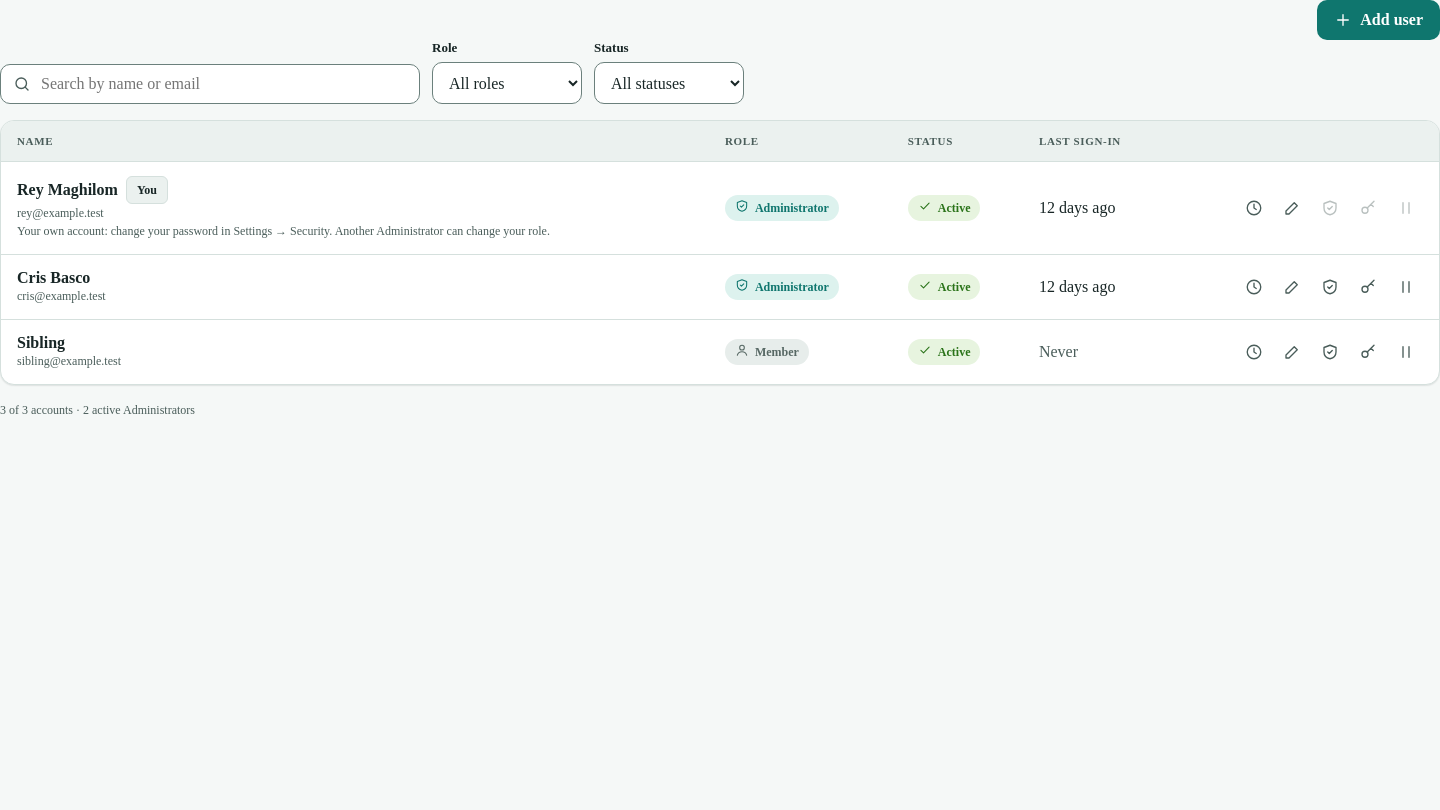
Manage Users RBAC-2 UI › creates a Member and shows the one-time setup link only while its dialog is open
Expected: the table named "Accounts" is shown, [1,121,1439,384]
Click the button "Add user" at (1379, 20), box [1317,0,1439,40]
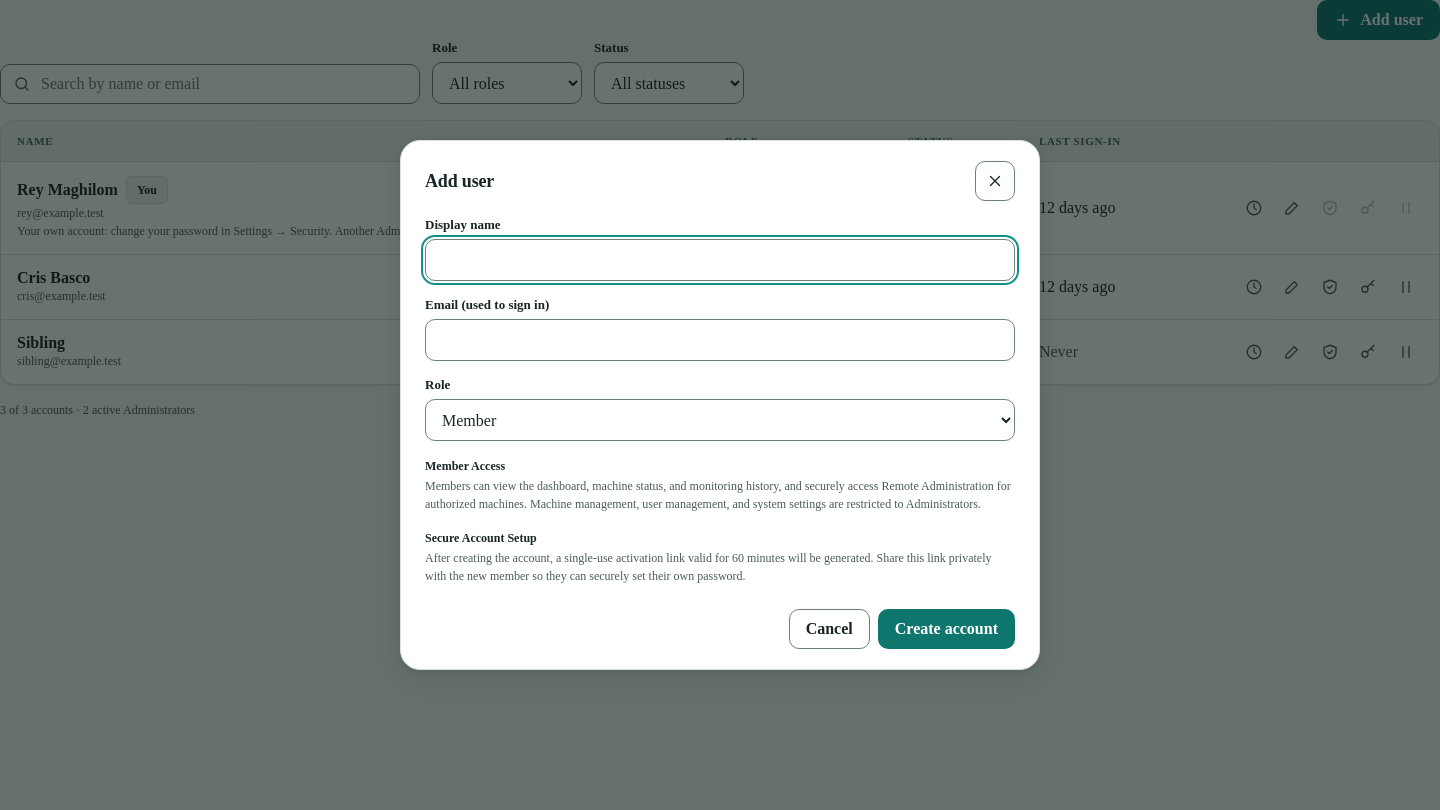
Now the dropdown labelled "Role" shows "Member", box [425,399,1015,441]
Now the text "Member Access" is shown, box [425,459,505,473]
Now the text "Secure Account Setup" is shown, box [425,531,537,545]
Type "New sibling" into the field labelled "Display name" at (720, 260), box [425,239,1015,281]
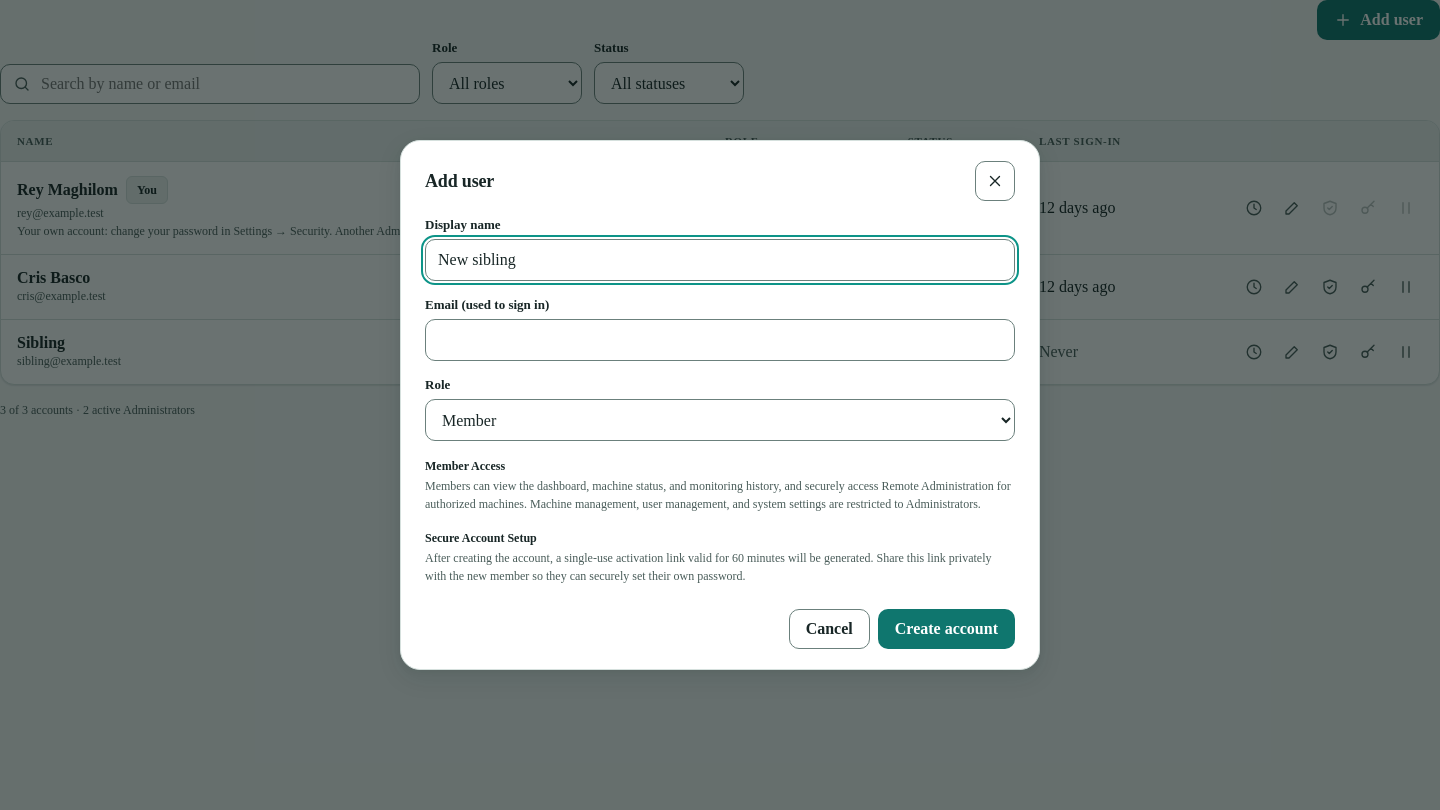
Type "new@example.test" into the field labelled "Email (used to sign in)" at (720, 340), box [425,319,1015,361]
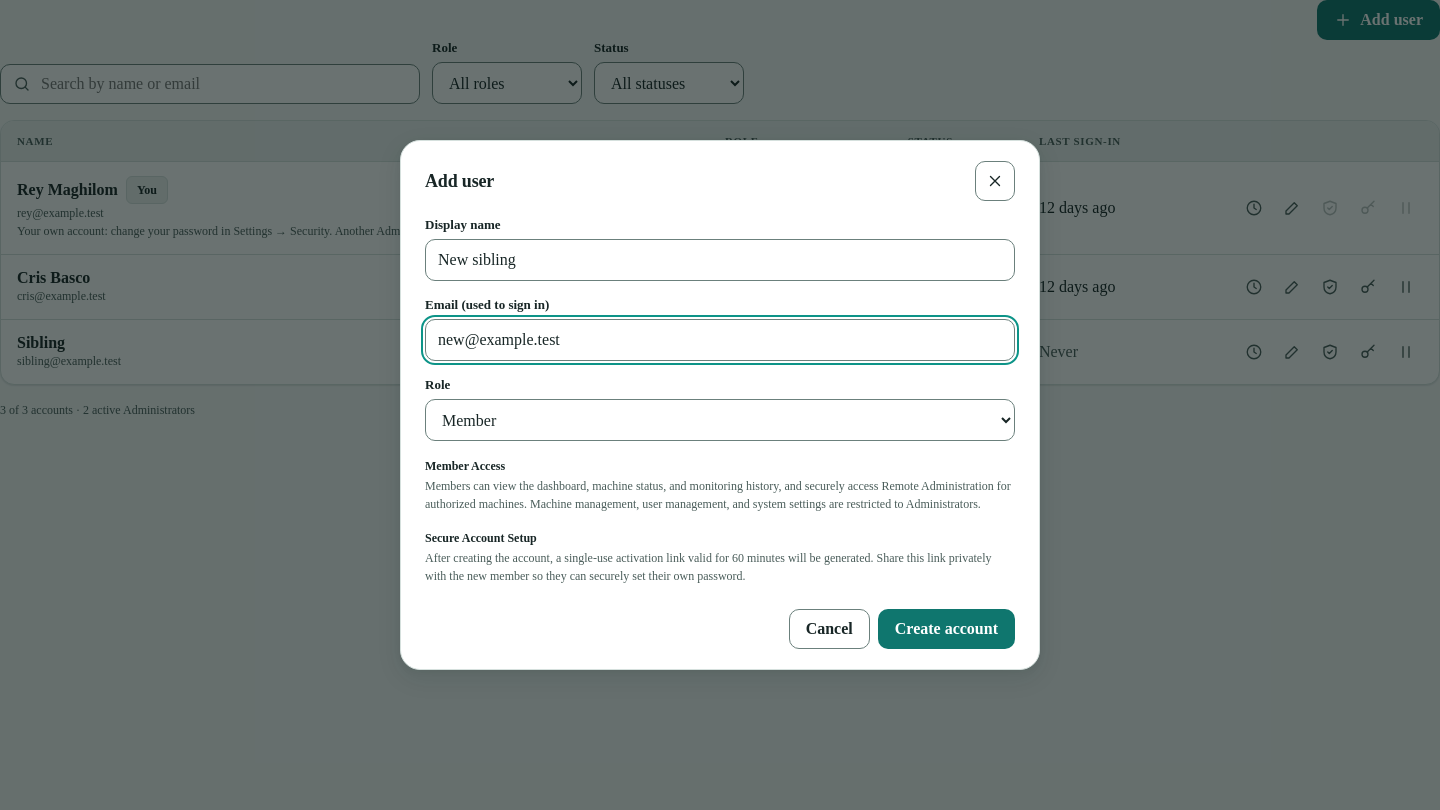
Click the button "Create account" at (946, 629), box [878,609,1015,649]
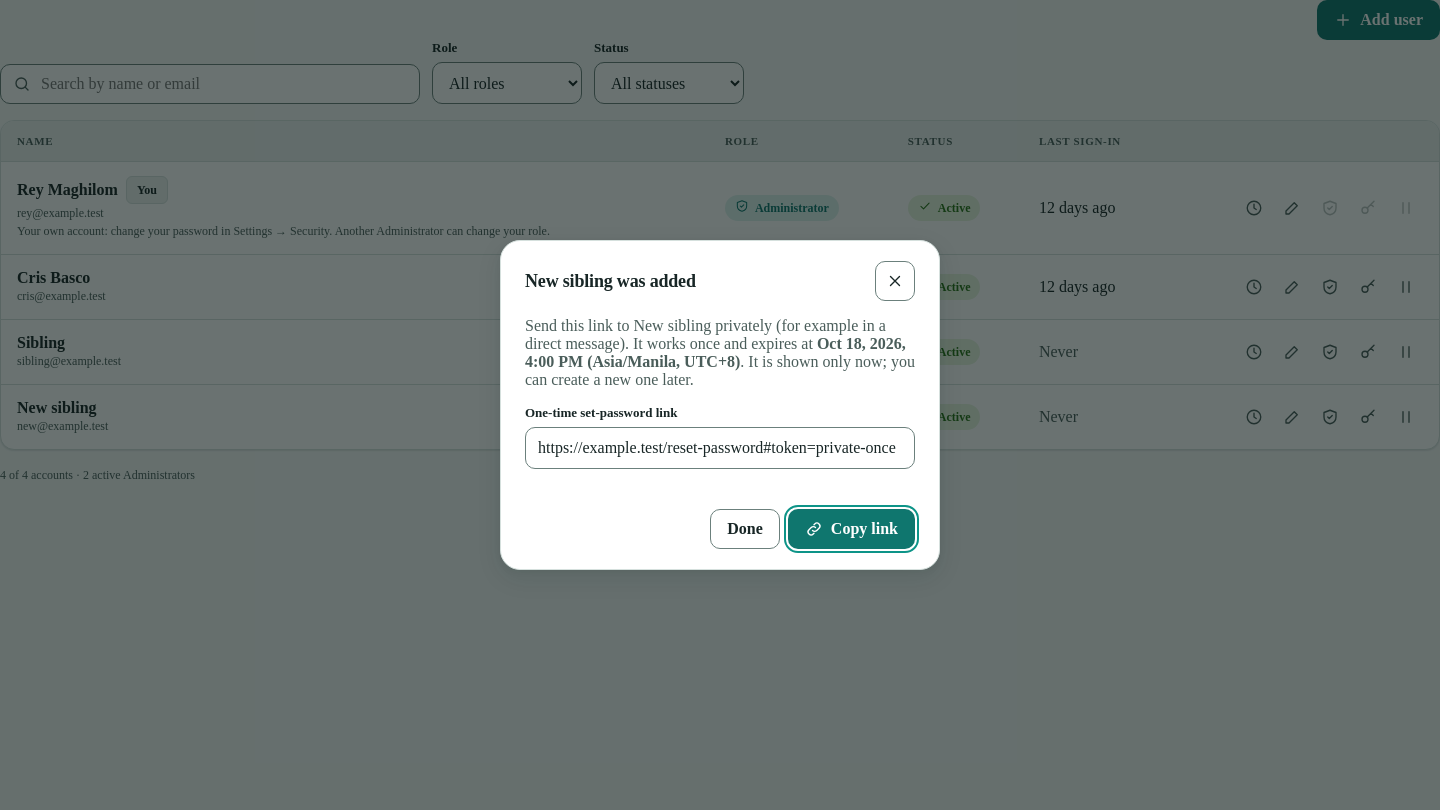
Now the field labelled "One-time set-password link" holds "https://example.test/reset-password#token=private-once", box [525,427,915,469]
Click the button "Done" at (745, 529), box [710,509,780,549]
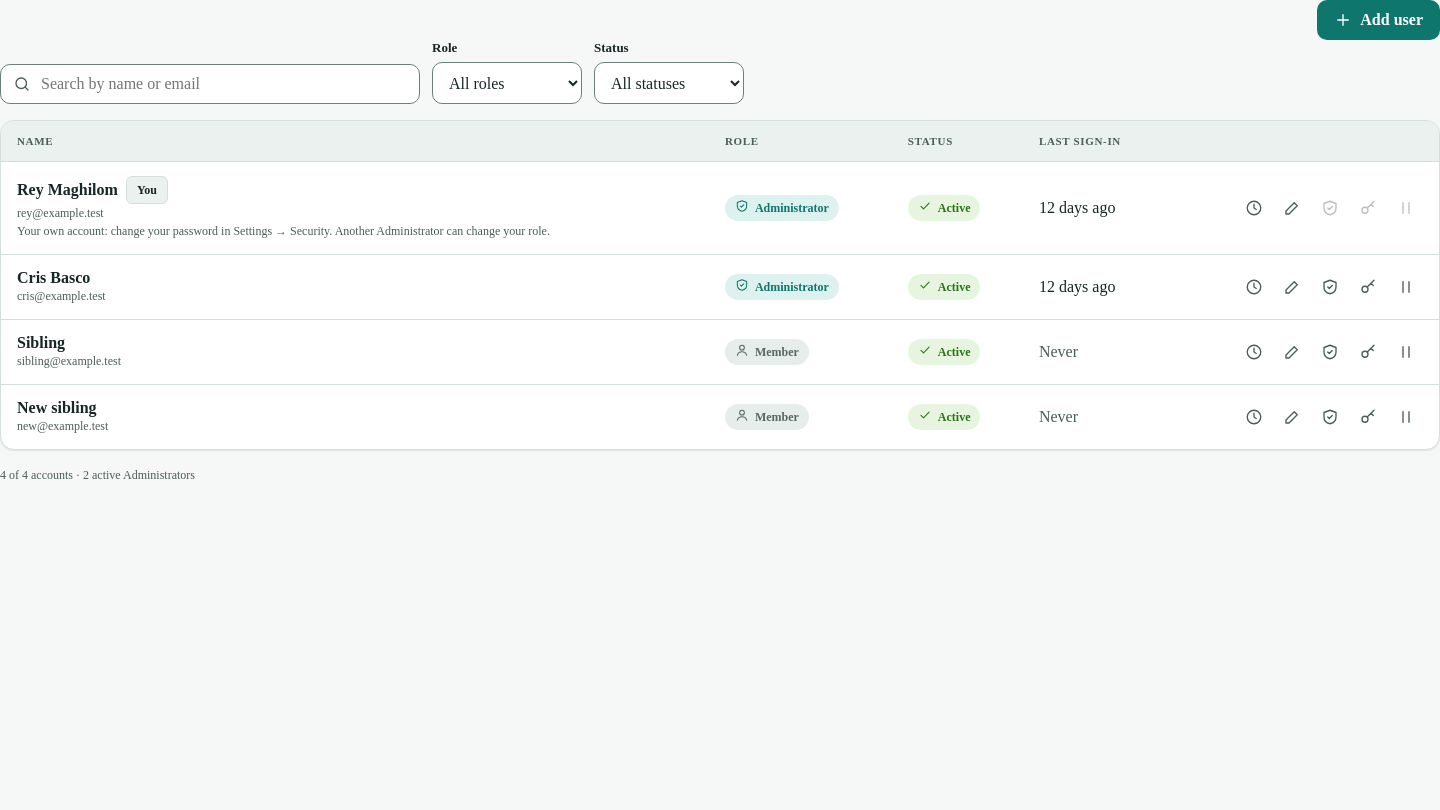
Now the label "One-time set-password link" is gone
